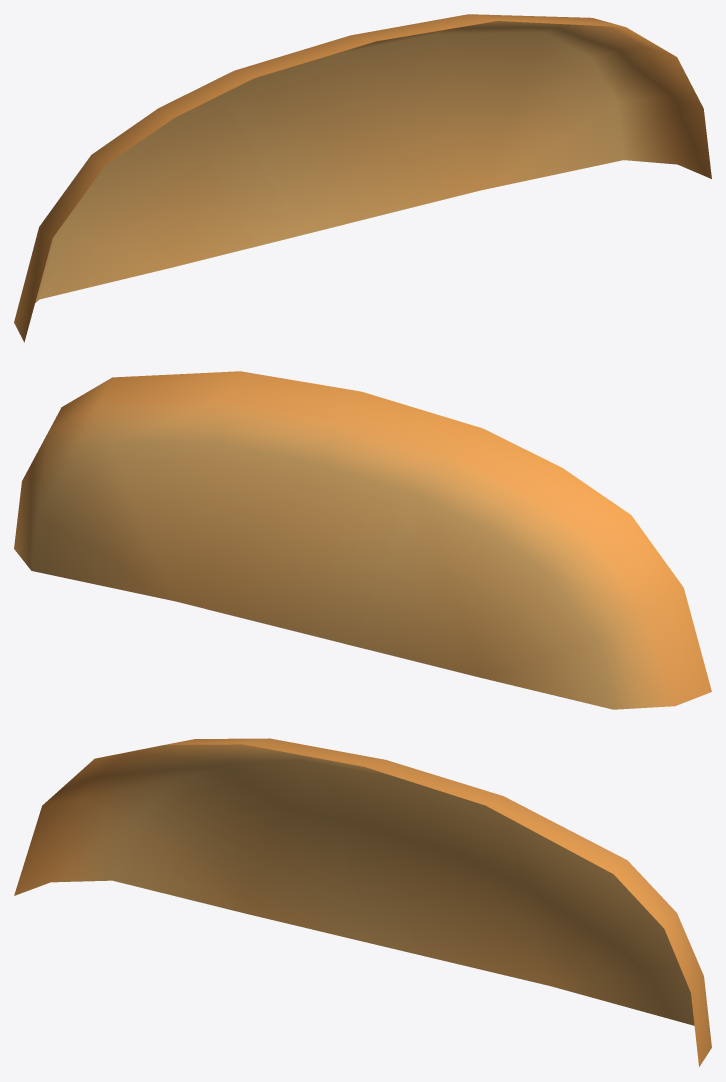
File: Step 01.FBX
The picture shows the model from 3 angles, top to bottom: view 1: azimuth 30°, elevation 25°; view 2: azimuth 150°, elevation 25°; view 3: azimuth 330°, elevation 25°; orthographic projection.
Visible parts, largest first — view 1: Step 01; view 2: Step 01; view 3: Step 01.
Part boxes in pixels (<box>): Step 01: <box>14,14,711,342</box>; Step 01: <box>14,371,711,709</box>; Step 01: <box>14,738,711,1066</box>.
Size of the model in its own units: 757 by 231 by 79.79.
1 material, 1 textured.
